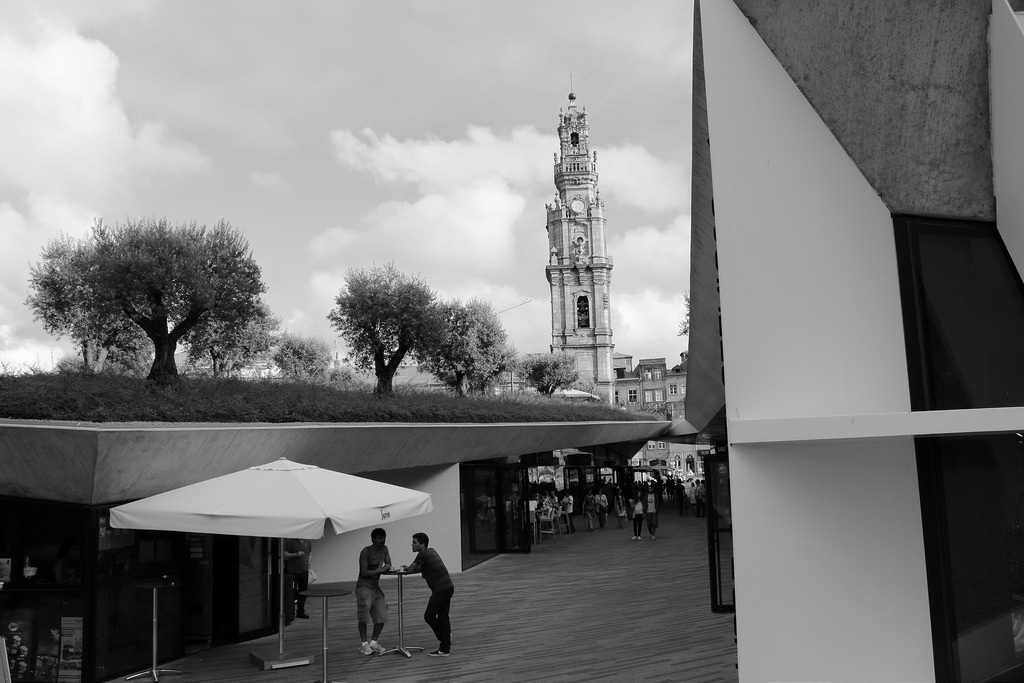clerigos: (541, 72, 616, 411)
